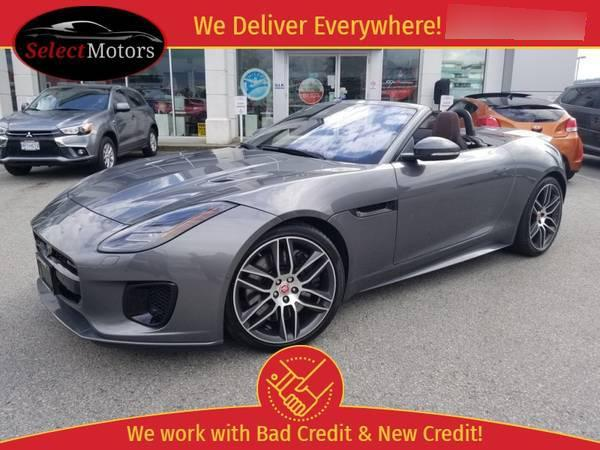Front_Bumper: (26, 190, 275, 344)
Front_Fender: (221, 162, 402, 298)
Front_Left_Door: (391, 145, 514, 275)
Front_Windshield: (246, 99, 427, 166)
Hood: (59, 148, 362, 228)
Left_Headlight: (95, 201, 234, 254)
Rear_Fender: (495, 134, 569, 248)
Wheel: (225, 223, 343, 348), (523, 178, 564, 254)
